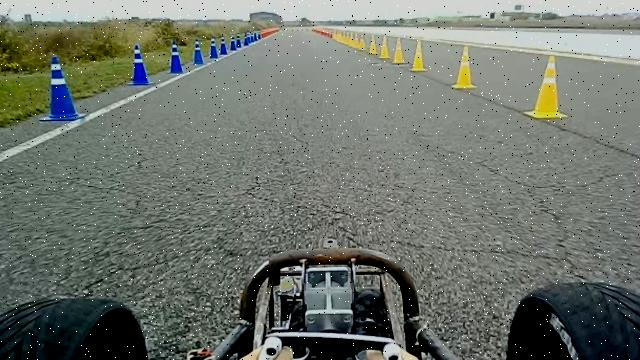blue cone: (38, 55, 85, 122), (126, 44, 154, 86), (166, 38, 184, 74), (192, 38, 204, 65), (208, 37, 218, 59), (220, 36, 228, 55), (230, 34, 237, 51), (235, 34, 242, 49)
yellow cone: (523, 54, 568, 119), (450, 45, 478, 90), (409, 38, 428, 72), (391, 37, 405, 64), (378, 35, 390, 59), (367, 36, 378, 54), (358, 33, 366, 50)
